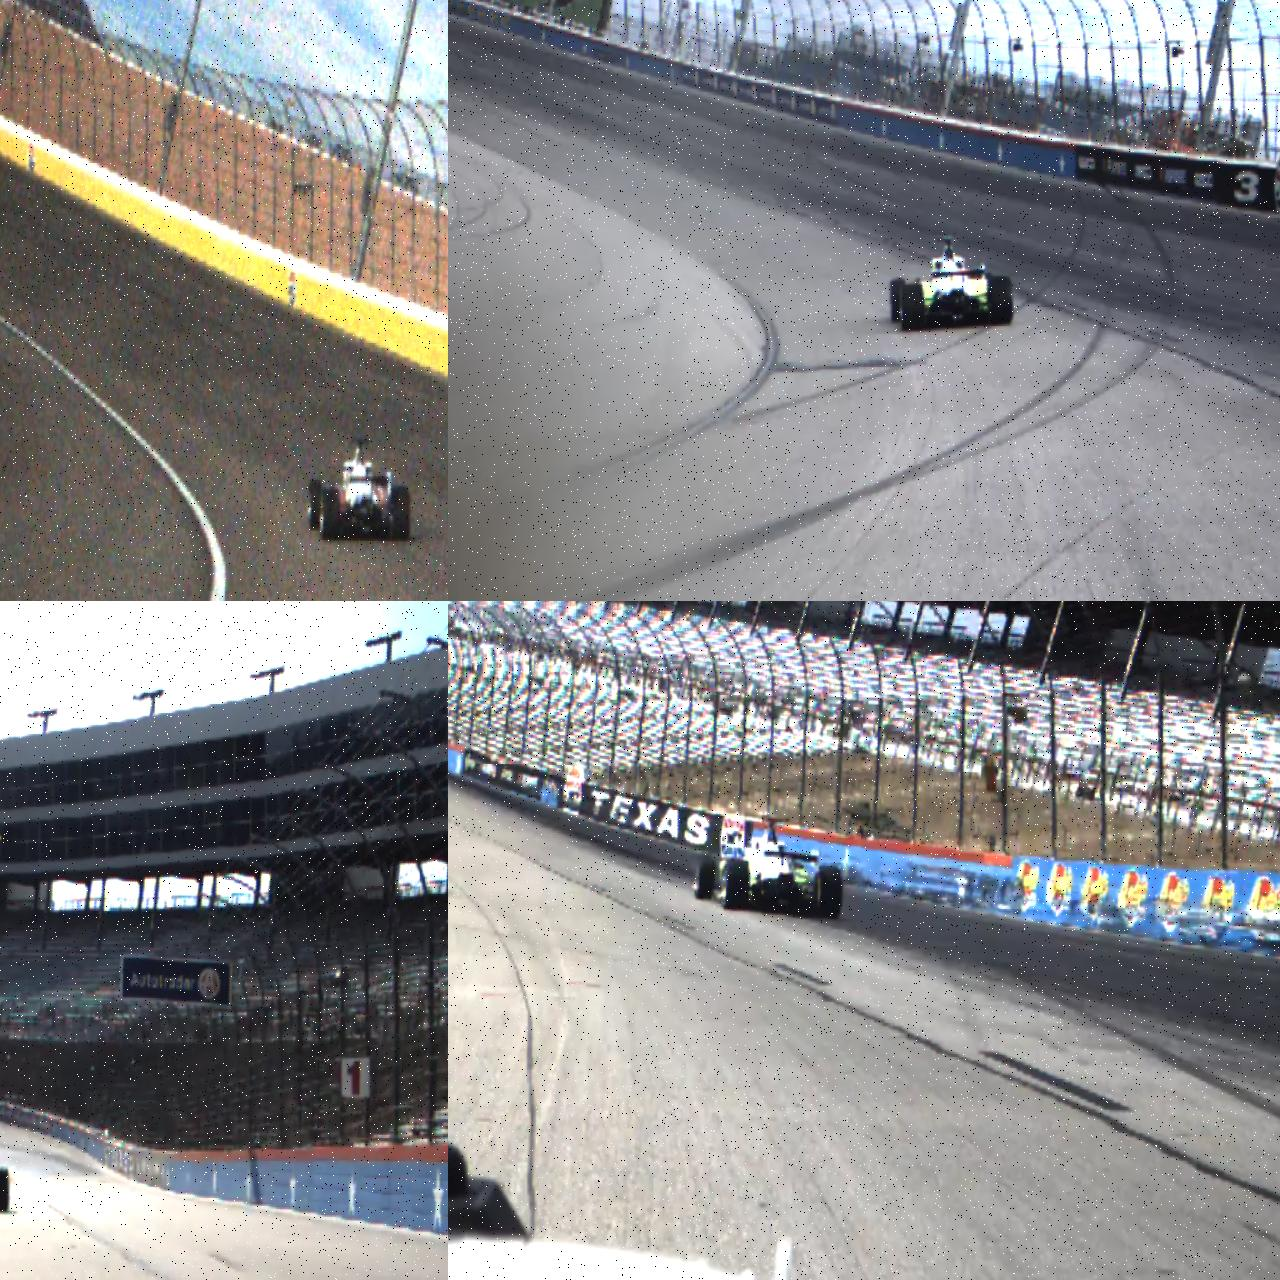AV: (692, 816, 844, 919), (890, 233, 1014, 334), (307, 435, 411, 543)
Wheel: (813, 866, 843, 919), (722, 859, 749, 912), (987, 275, 1014, 325), (900, 284, 925, 332), (392, 485, 411, 542), (321, 486, 340, 540), (695, 858, 715, 900), (890, 278, 905, 324), (309, 479, 322, 530), (0, 1167, 11, 1213)
